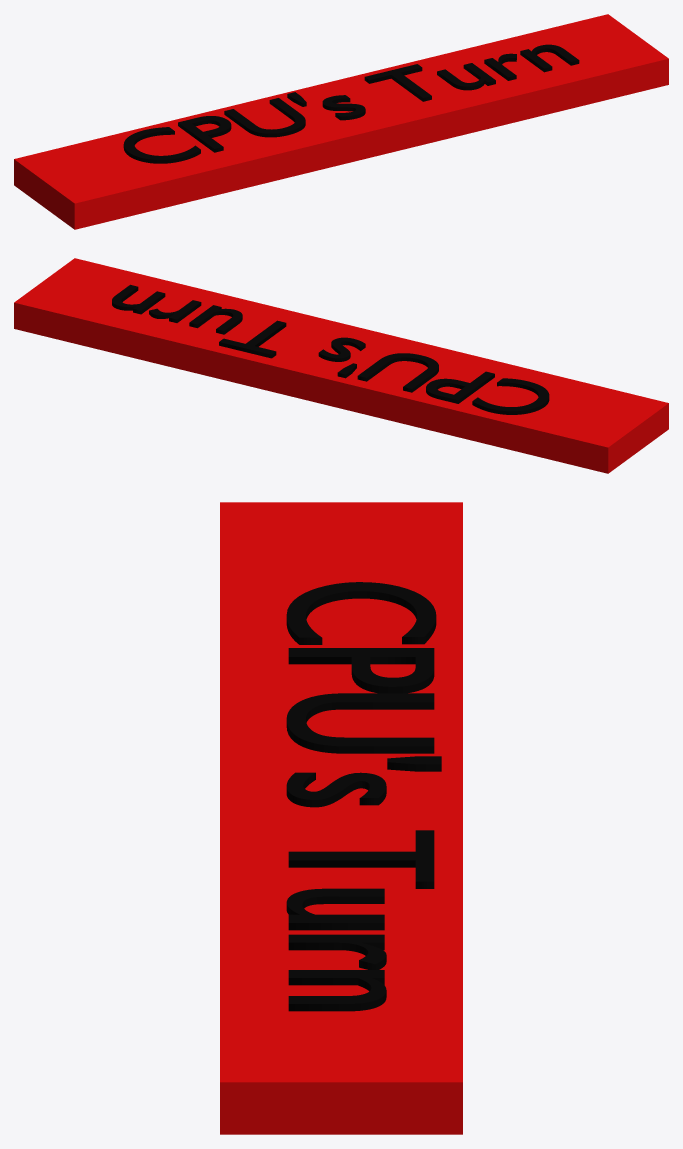
File: CPUsTurnText.glb
The picture shows the model from 3 angles, top to bottom: view 1: azimuth 30°, elevation 25°; view 2: azimuth 150°, elevation 25°; view 3: azimuth 270°, elevation 25°; orthographic projection. The views are drawn at different scales.
Visible parts, largest first — view 1: Cube, テキスト.001; view 2: Cube, テキスト.001; view 3: Cube, テキスト.001.
Part boxes in pixels (x1,y1,x2,y2): Cube: (14,14,668,229); テキスト.001: (123,44,579,163); Cube: (14,258,668,473); テキスト.001: (112,284,549,414); Cube: (220,502,462,1134); テキスト.001: (286,582,441,1011).
Size of the model in its own units: 6.42 by 0.3087 by 1.14.
